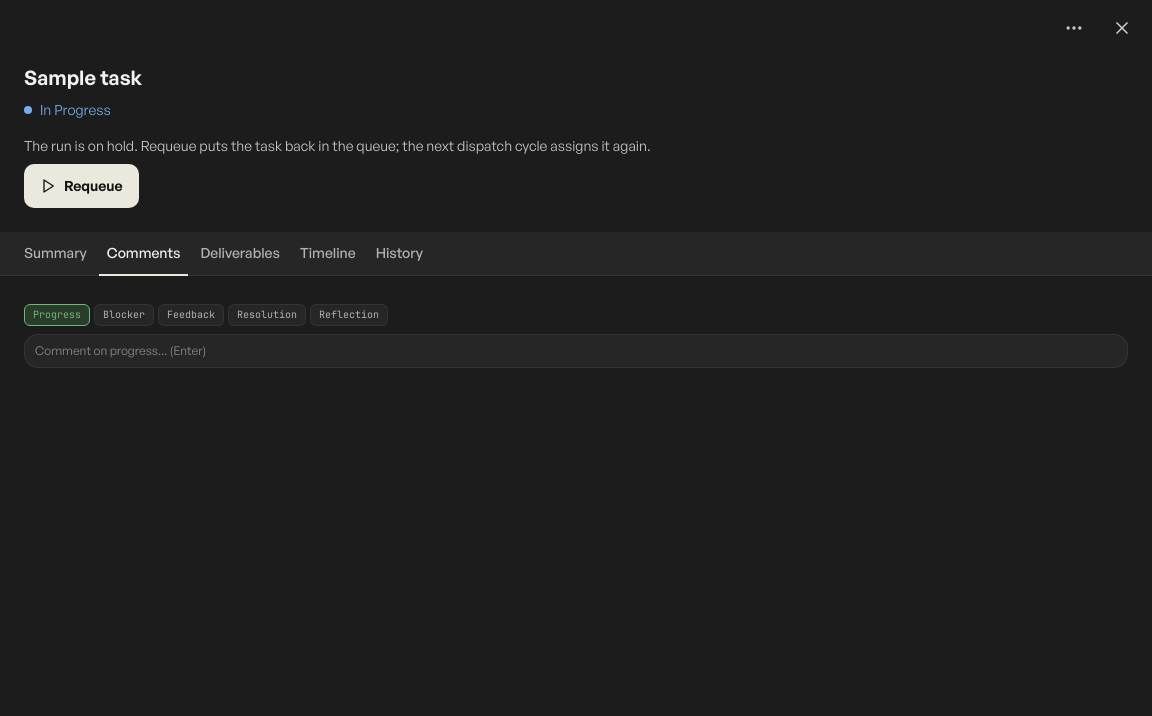
it: head-owned task (head launcher §8.2) › without a head run the fleet controls stay, and the Agent fact reads plain 'Unassigned'
expect the button "Requeue" is shown: met, box top-left (24, 164), bottom-right (139, 208)
Click the tab "Summary".
click(55, 254)  # box top-left (16, 232), bottom-right (95, 276)
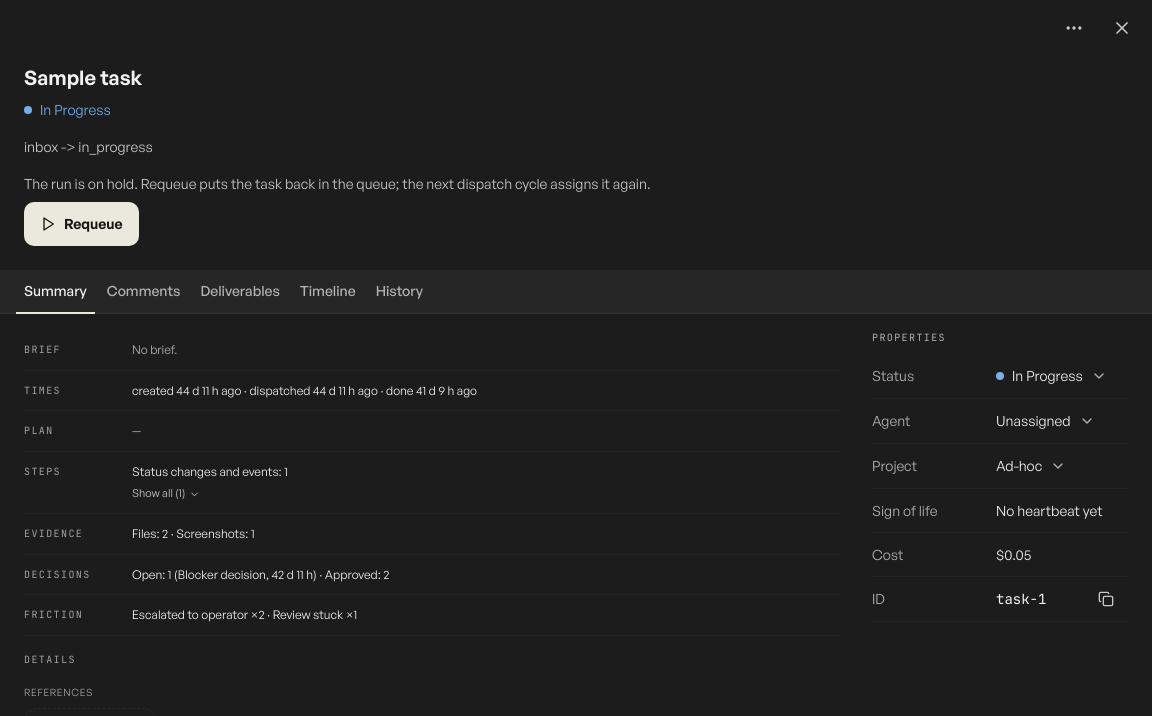
expect the element with test id "fact-agent" shows "Unassigned": met, box top-left (988, 399), bottom-right (1102, 443)
